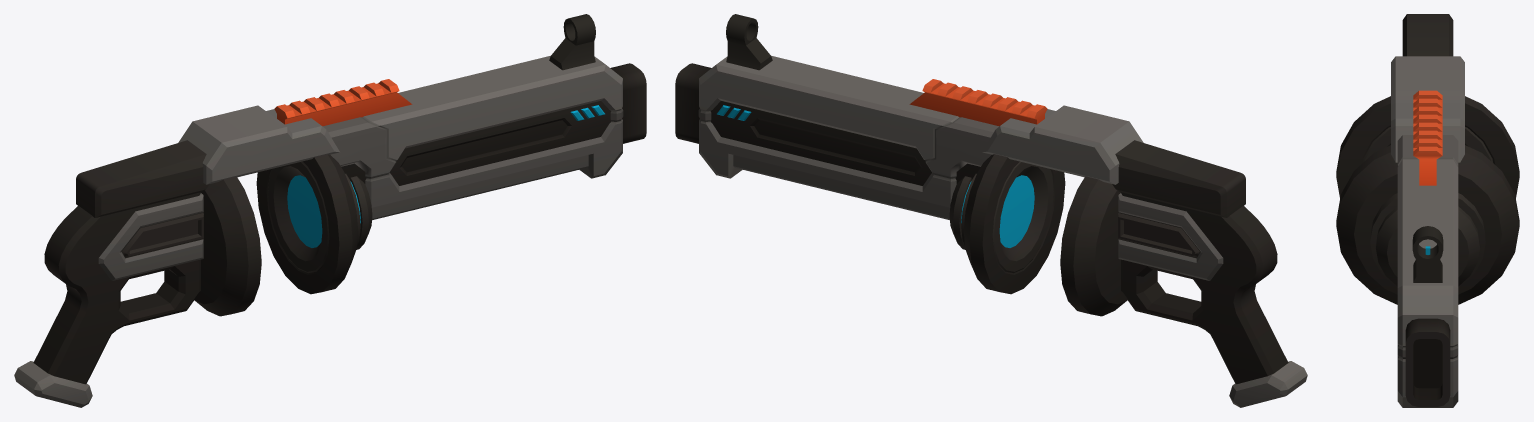
The model's file is Shotgun4_Base.fbx.
3 views of the same model, side by side, from view 1: azimuth 30°, elevation 25°; view 2: azimuth 150°, elevation 25°; view 3: azimuth 270°, elevation 25° (orthographic). The views are drawn at different scales.
Parts seen in each view (by area): view 1: Shotgun4_Base; view 2: Shotgun4_Base; view 3: Shotgun4_Base.
Boxes of the visible parts, <box> form: Shotgun4_Base: <box>14,14,646,407</box>; Shotgun4_Base: <box>675,14,1307,407</box>; Shotgun4_Base: <box>1336,14,1519,407</box>.
Bounding box in the file's own units: 70.17 × 28.4 × 16.42.
